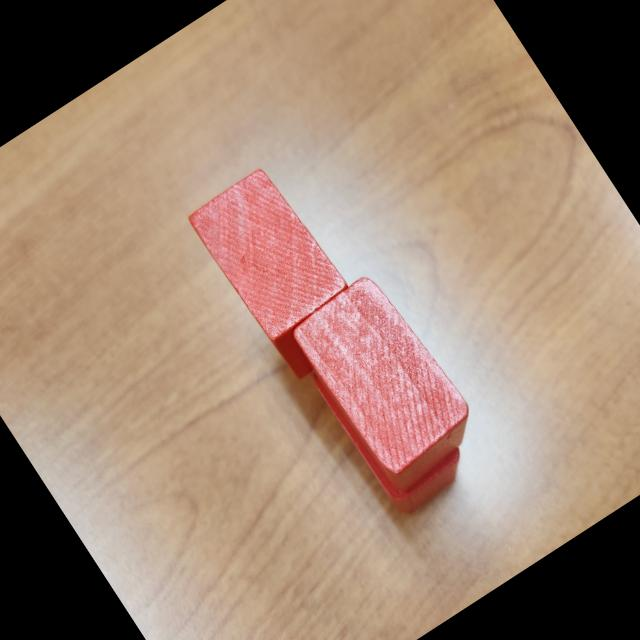red: (284, 263, 490, 496), (184, 160, 366, 366), (307, 327, 474, 518), (222, 221, 377, 386)
